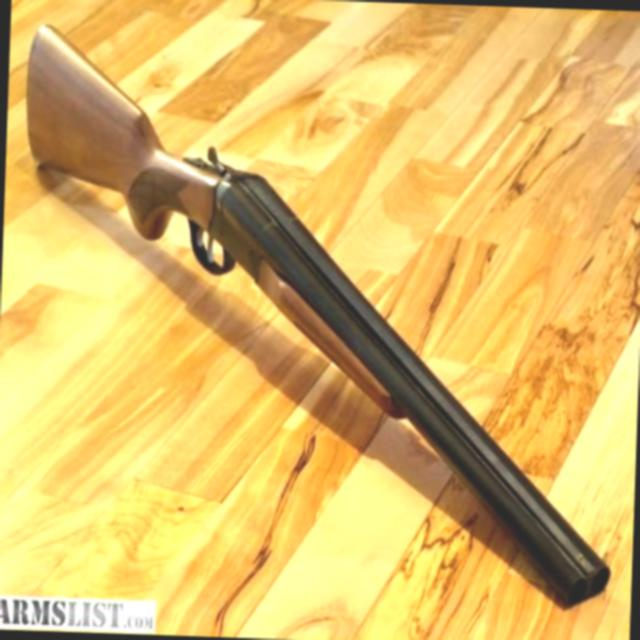shotgun: (10, 12, 637, 619)
